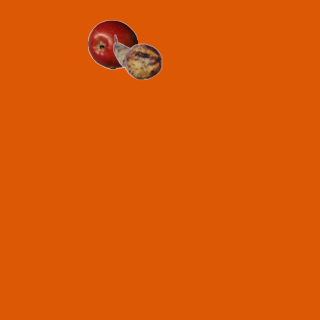Apple Braeburn: (87, 19, 137, 69)
Pear Abate: (112, 32, 162, 82)
